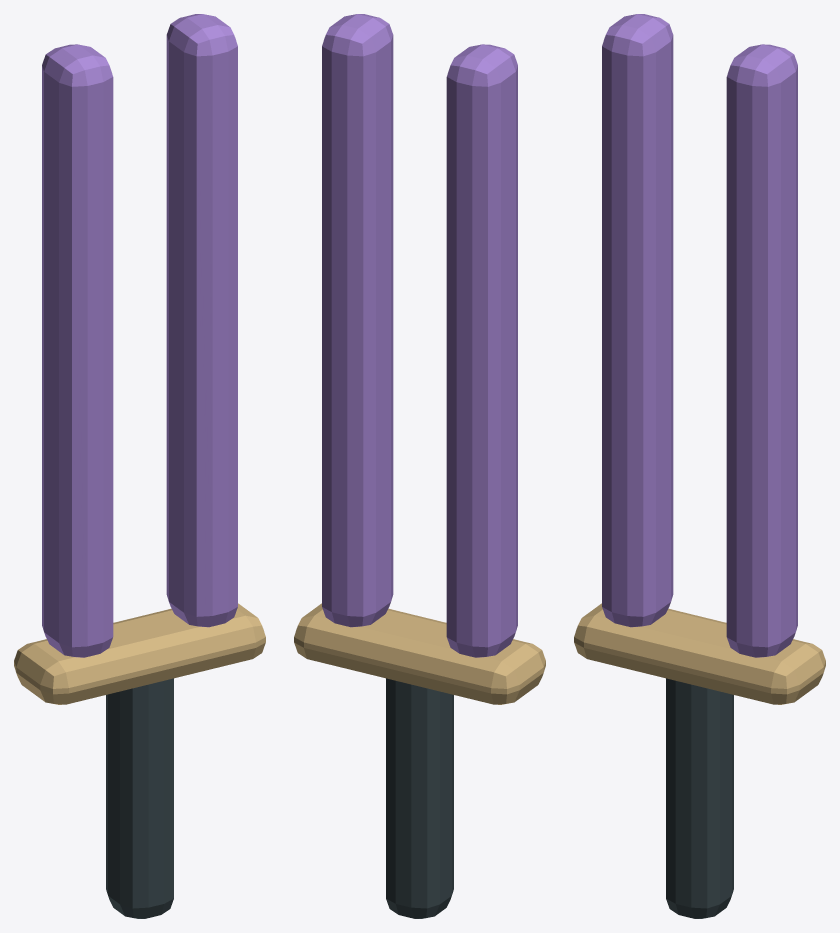
The model's file is arm_echo_weapon.glb.
3 renders of one model, left to right at view 1: azimuth 30°, elevation 25°; view 2: azimuth 150°, elevation 25°; view 3: azimuth 330°, elevation 25°, orthographic.
Parts seen in each view (by area): view 1: arm_echo_weapon; view 2: arm_echo_weapon; view 3: arm_echo_weapon.
Part boxes in pixels (x1,y1,x2,y2): arm_echo_weapon: [14, 14, 265, 918]; arm_echo_weapon: [294, 14, 545, 918]; arm_echo_weapon: [574, 14, 825, 918].
Bounding box in the file's own units: 0.43 × 1.61 × 0.15.
